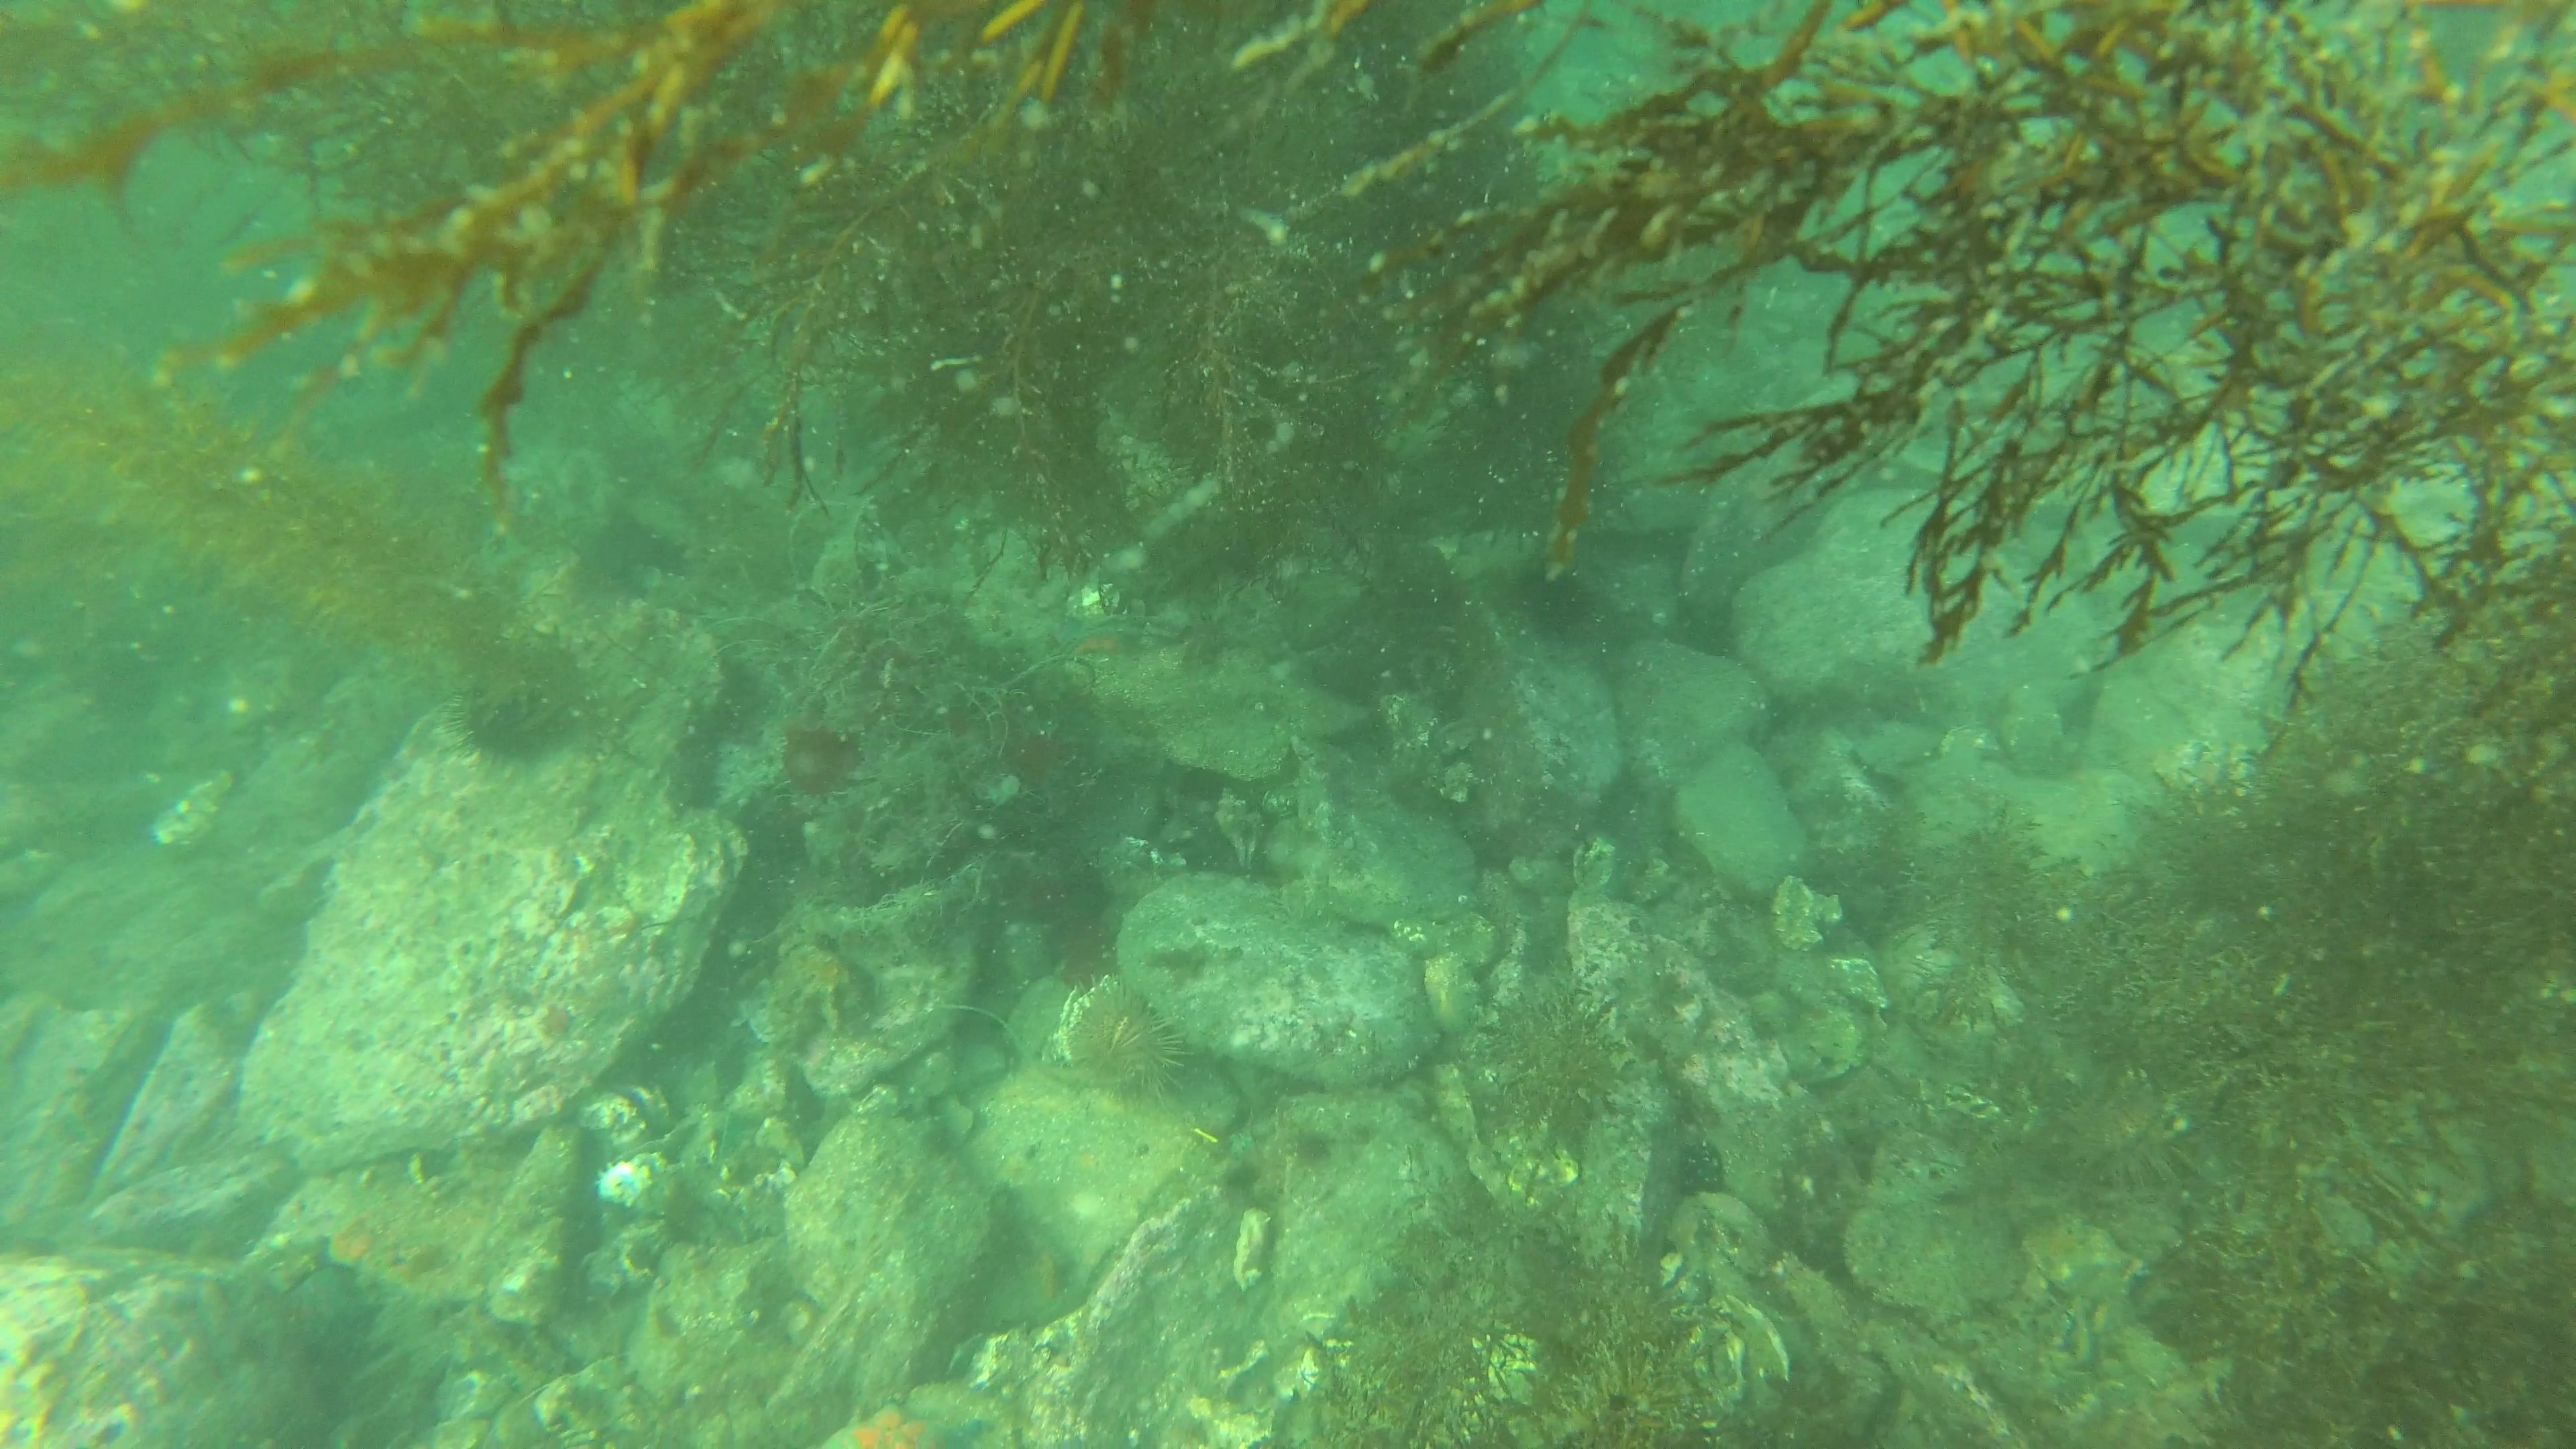echinus: (1483, 985, 1637, 1150), (446, 628, 600, 770), (1053, 975, 1196, 1109), (1509, 557, 1605, 648)
starfish: (810, 1396, 977, 1449)
